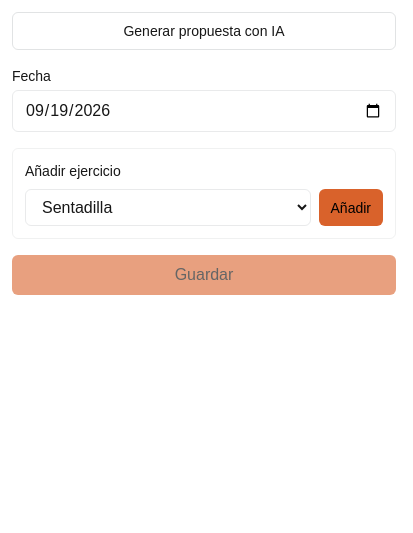
it: SessionForm › añade un bloque de fuerza con campos de serie al elegir un ejercicio de fuerza
Select "Sentadilla" in the dropdown labelled "Añadir ejercicio": (168, 208) 25,189 -> 310,226
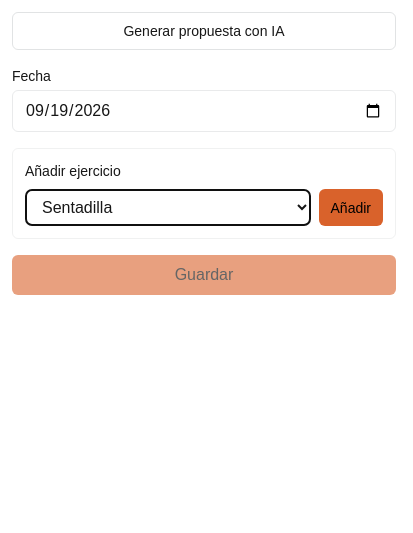
Click the button "Añadir": (351, 208) 318,189 -> 383,226
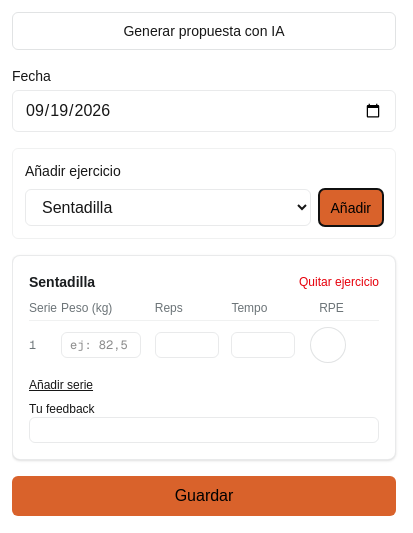
Expected: the heading "Sentadilla" is shown, 29,272 -> 95,292
Expected: the field named "peso" is shown, 61,332 -> 141,358
